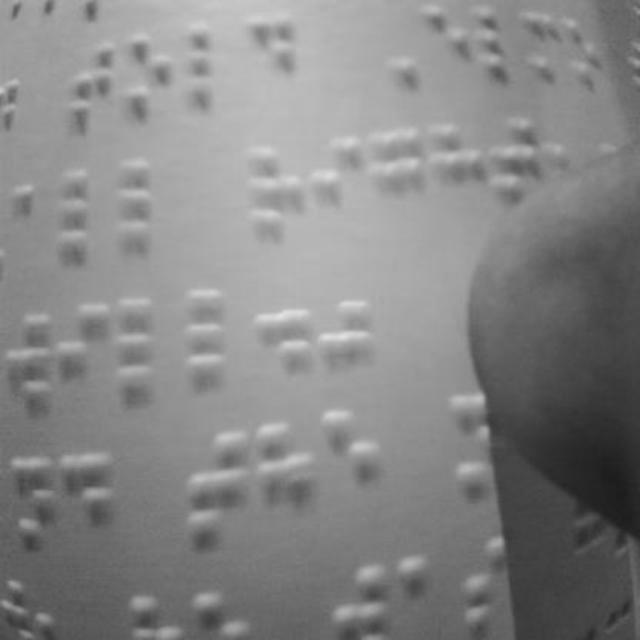braiile: (253, 418, 320, 546), (320, 406, 388, 524), (184, 429, 246, 553), (59, 449, 120, 569), (60, 302, 124, 414), (1, 312, 64, 424), (366, 124, 424, 240), (112, 163, 174, 267), (242, 142, 302, 248), (428, 125, 484, 238), (4, 451, 60, 563), (118, 298, 178, 402), (188, 288, 248, 392), (312, 134, 366, 248), (68, 36, 124, 136), (57, 171, 113, 267), (182, 20, 236, 118), (125, 27, 178, 125), (8, 175, 62, 271), (248, 13, 302, 105), (426, 0, 472, 96), (480, 5, 524, 95)
